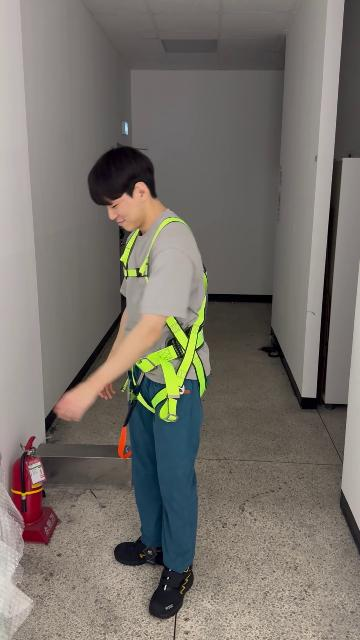helmet_not_worn: (89, 147, 161, 215)
shoe_worn: (149, 564, 193, 618), (114, 537, 162, 566)
vest_worn: (122, 224, 213, 420)
